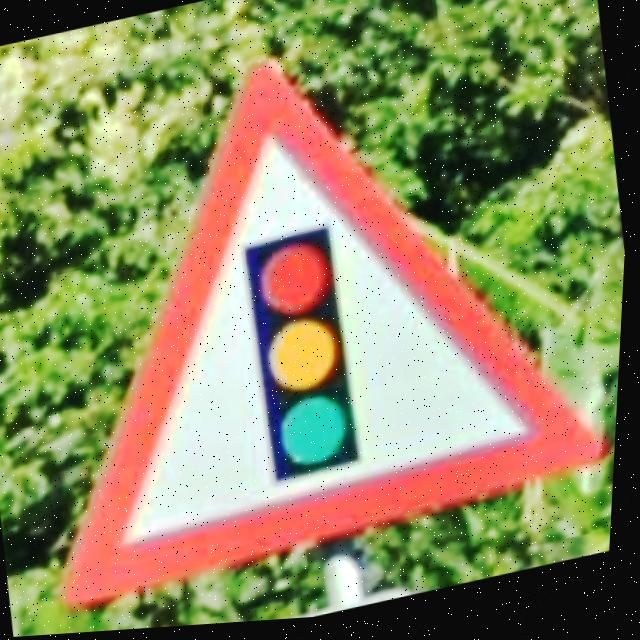signalahead: (63, 63, 613, 610)
